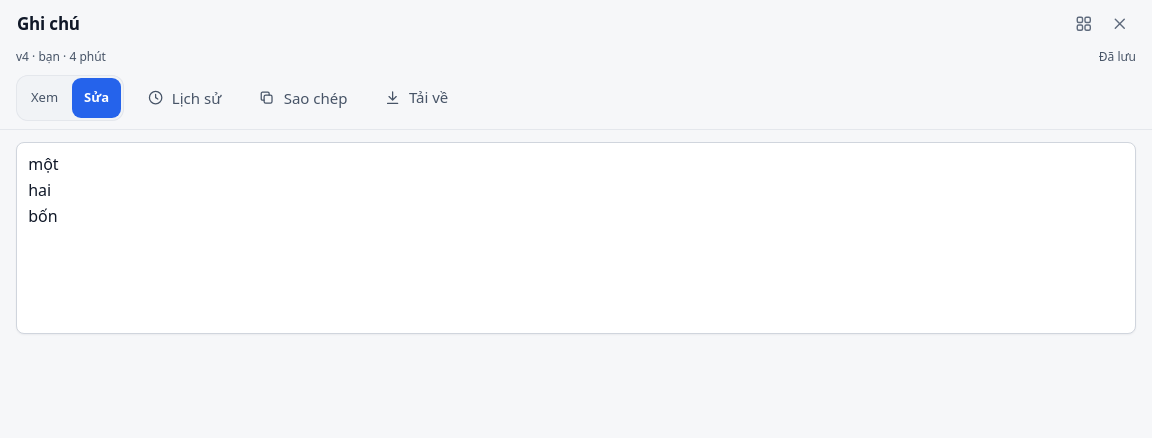
it: a restore on its way or refused › cannot be asked for again while it is on its way
The width and height of the screenshot is (1152, 438).
Click the button "Lịch sử" at (184, 98), box x1=132 y1=80 x2=236 y2=116
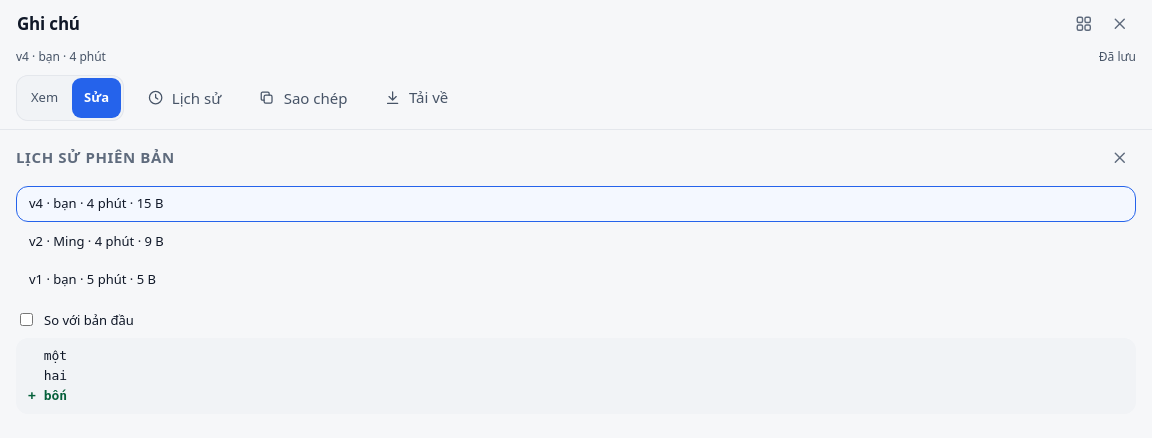
Click the button "v1 · bạn · 5 phút · 5 B" at (92, 279), box x1=16 y1=262 x2=1136 y2=298
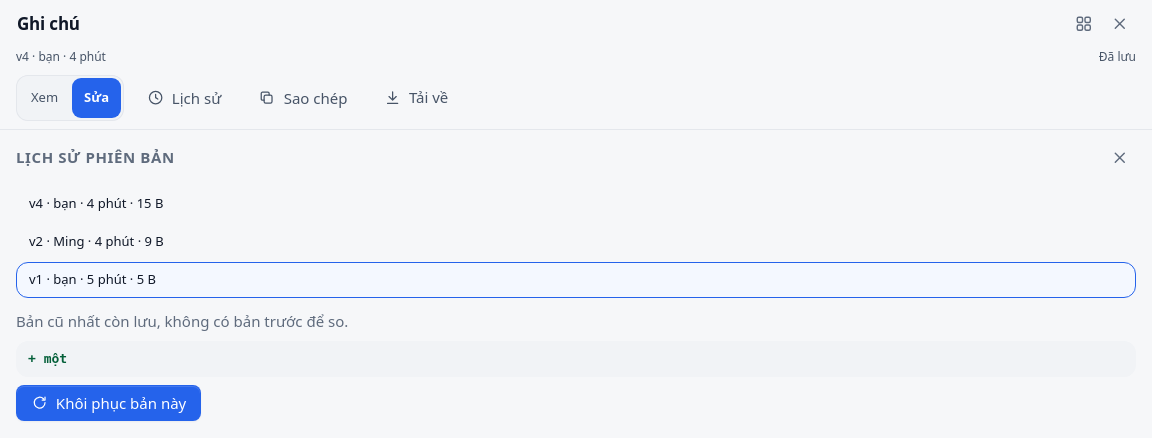
Click the button "Khôi phục bản này" at (108, 403), box x1=16 y1=385 x2=201 y2=421
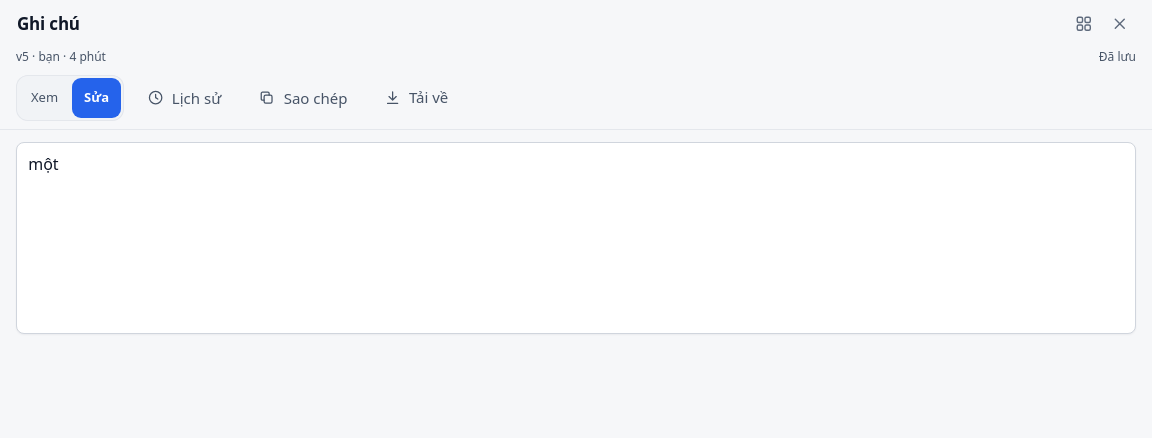
Expected: the text box named "Nội dung canvas" holds "một", x1=16 y1=142 x2=1136 y2=334
